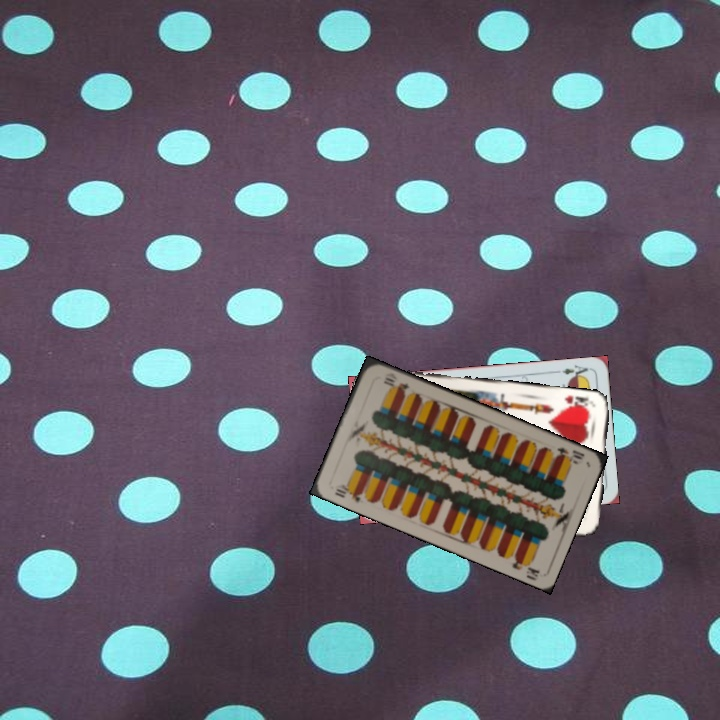E10: (330, 480, 365, 505), (552, 443, 587, 467)
EA: (558, 361, 592, 381)
HK: (560, 391, 596, 413)
